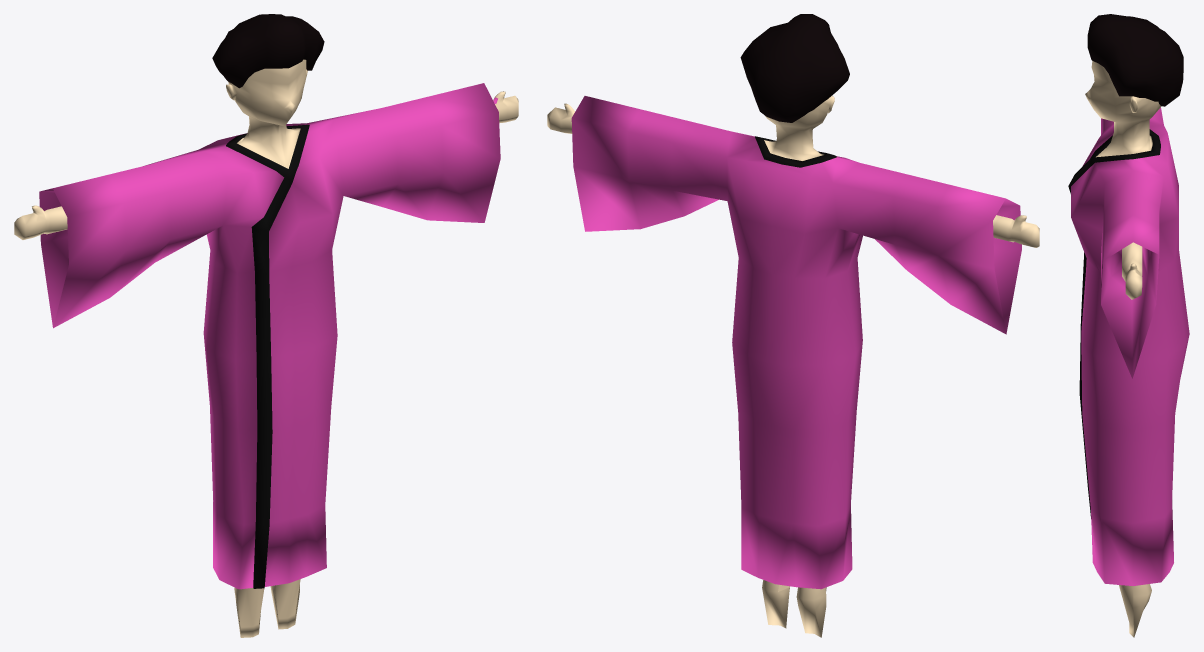
The model's file is pink (1).fbx.
3 views of the same model, side by side, from view 1: azimuth 30°, elevation 25°; view 2: azimuth 150°, elevation 25°; view 3: azimuth 270°, elevation 25° (orthographic). The views are drawn at different scales.
Parts seen in each view (by area): view 1: hair; view 2: hair; view 3: hair.
Part boxes in pixels (left/top/right/bottom): hair: left=14, top=14, right=518, bottom=637; hair: left=547, top=14, right=1039, bottom=637; hair: left=1068, top=14, right=1189, bottom=637.
Size of the model in its own units: 218 by 257 by 46.46.
